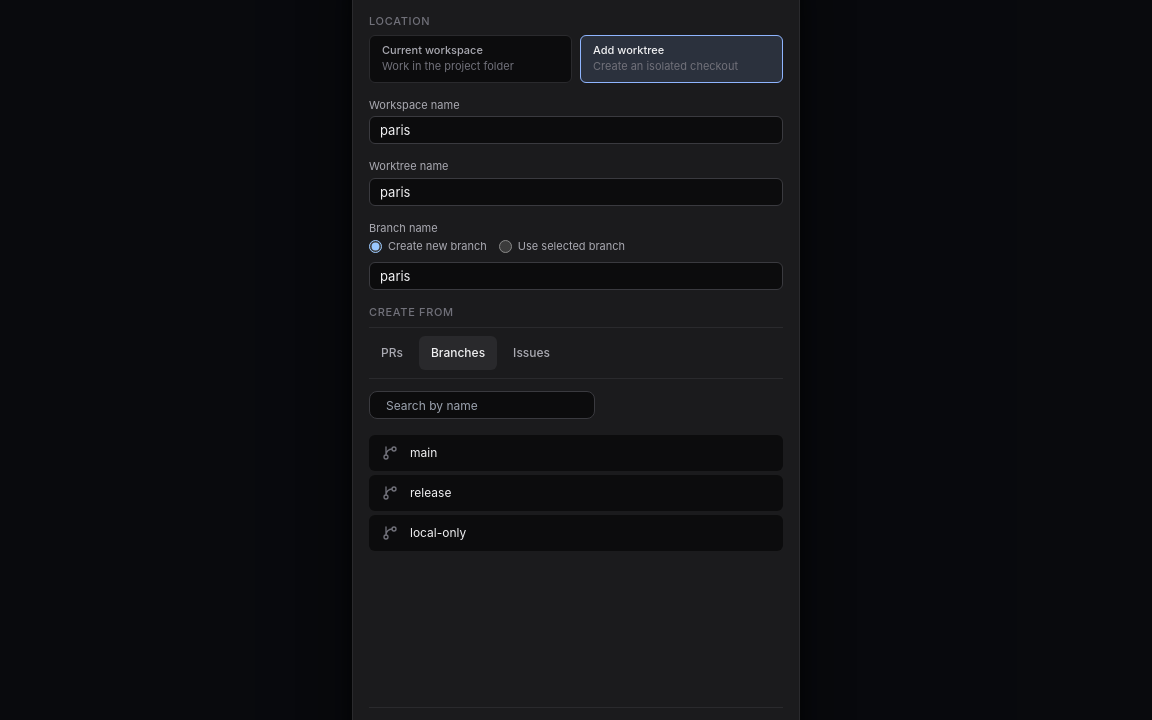
Test: NewWorkspaceDialog — Branch tab › filters branch rows by name
Expected: the number of buttons with test id "branch-item" is 3, [369,435,783,471]; [369,475,783,511]; [369,515,783,551]
In the field with test id "source-filter": (482, 405) [369,391,595,419], type "rel"
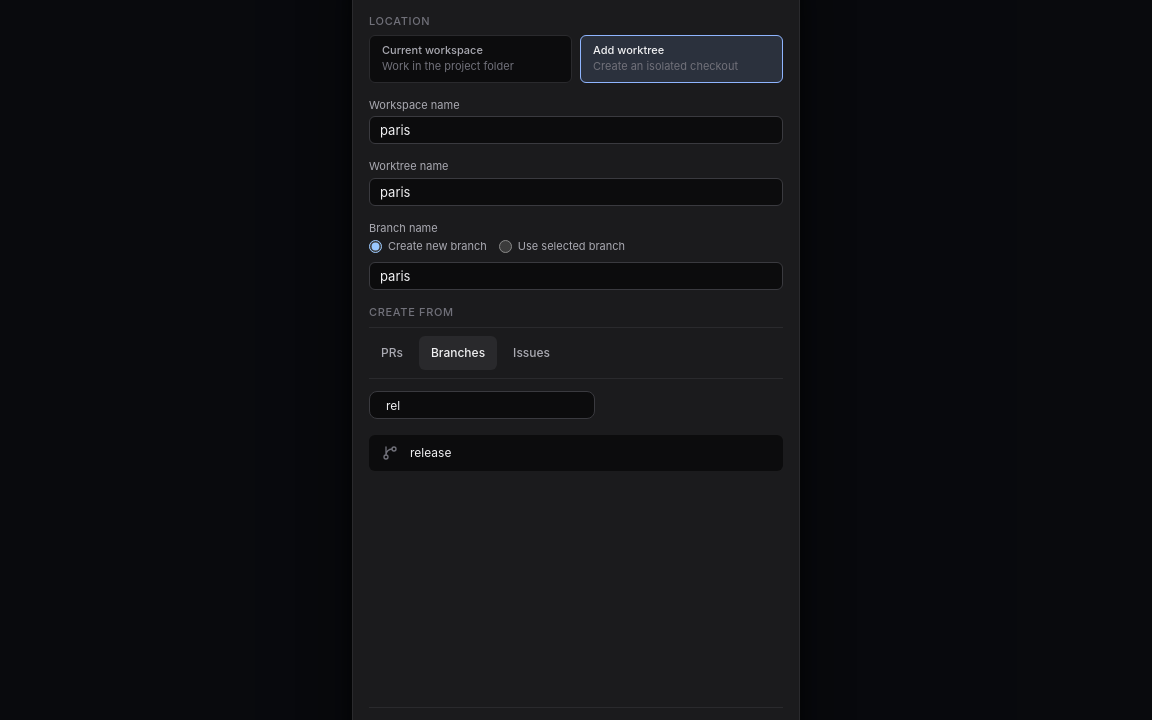
Expected: the text "release" is shown, [410,445,451,460]
Now the number of buttons with test id "branch-item" is 1, box [369,435,783,471]
Now the button "main" is gone
